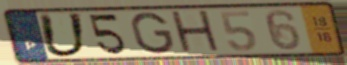5: (86, 13, 129, 56), (217, 9, 259, 53)
6: (263, 8, 304, 53)
G: (128, 11, 176, 55)
H: (168, 8, 224, 56)
U: (36, 12, 90, 59)
